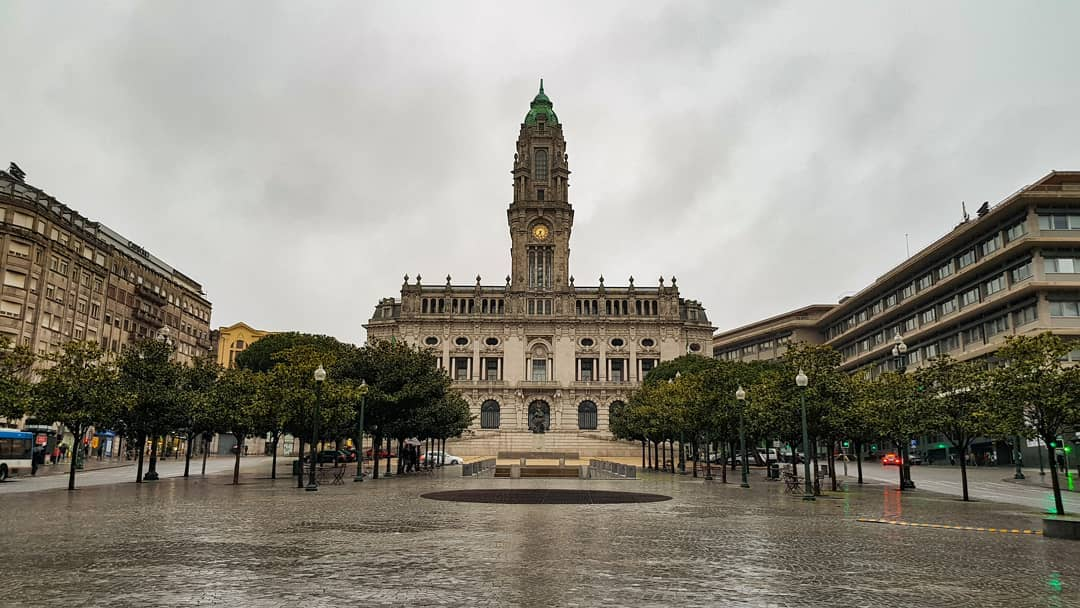camara: (363, 79, 719, 450)
